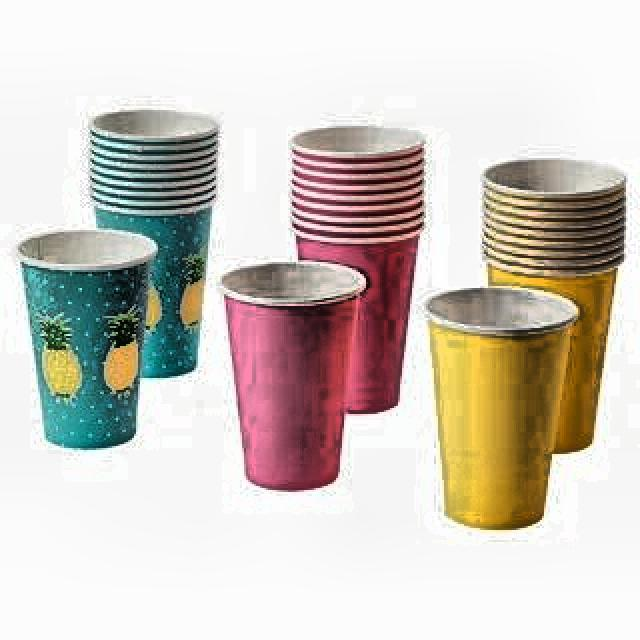Cup: (280, 112, 418, 416), (74, 98, 214, 393), (434, 269, 576, 539), (210, 253, 356, 498), (15, 225, 154, 456)
